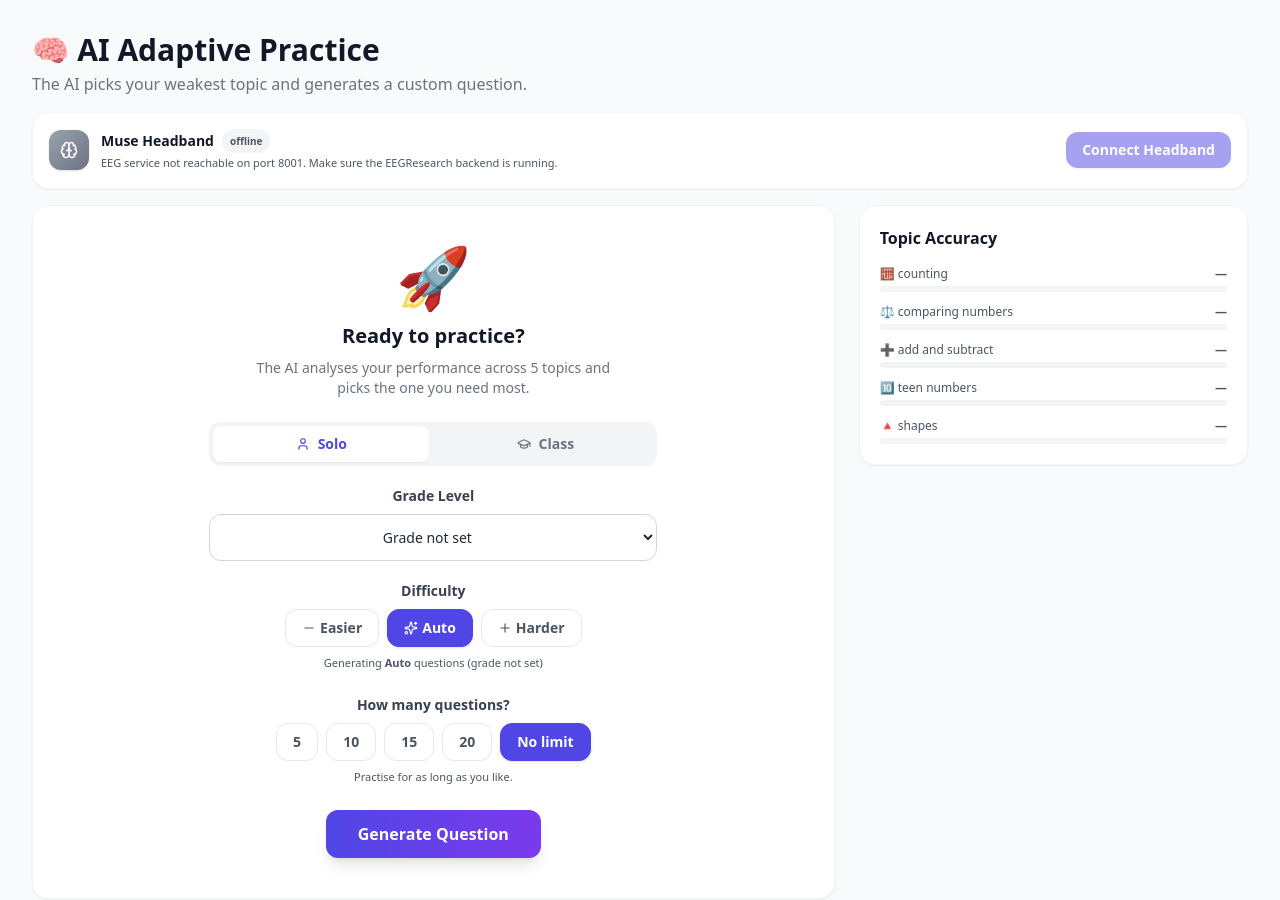
Test: leaves a student with no grade to the backend default, naming no grade itself
Check: the dropdown showing "Grade not set" is shown, box [209,514,657,560]
Check: the text "Generating Auto questions (grade not set)" is shown, box [324,654,543,670]
Step 1. Click the button "Generate Question" → (433, 834), box [326,810,541,858]
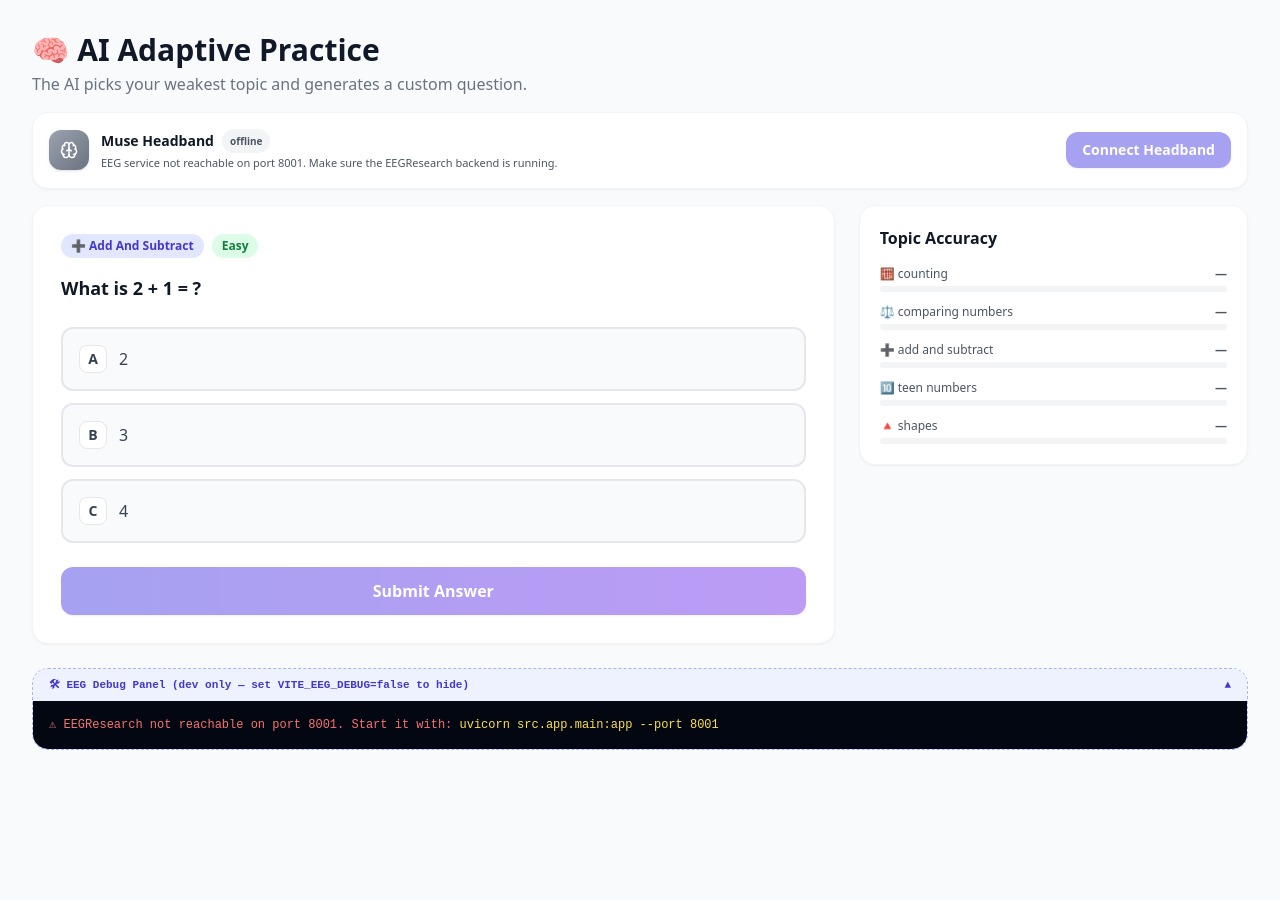
Check: the text "What is 2 + 1 = ?" is shown, box [61,276,201,300]
